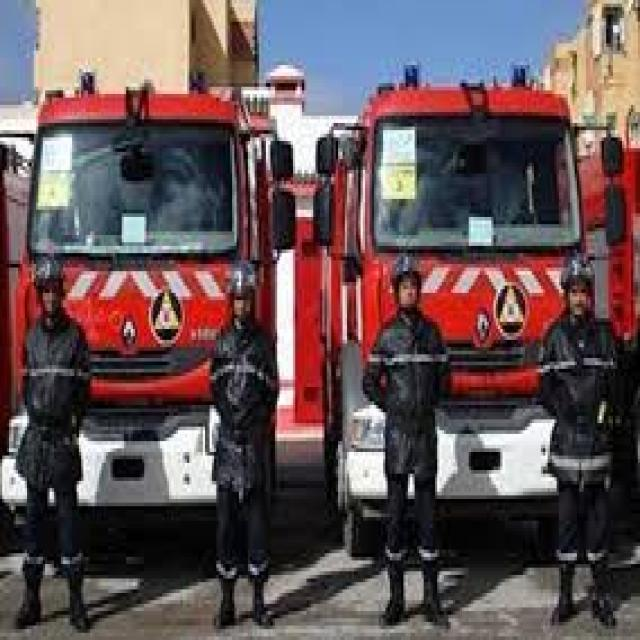emergency: (326, 64, 632, 544), (1, 74, 280, 530)
